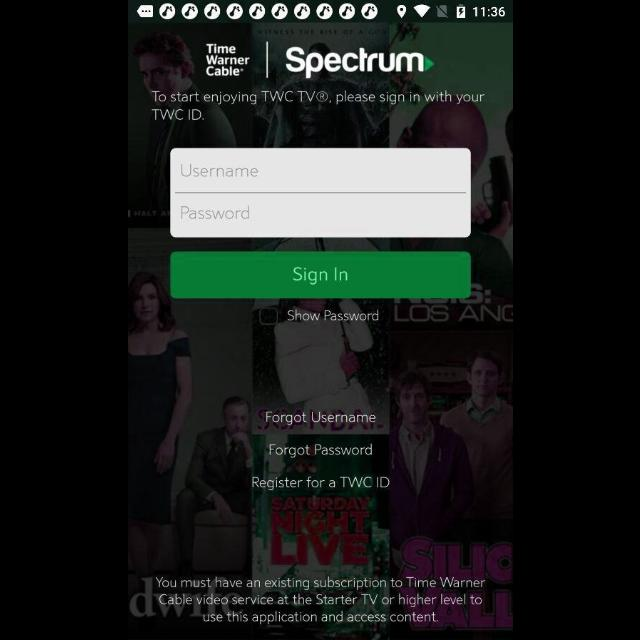backgroundimage: (128, 22, 512, 640)
checkbox: (258, 307, 278, 325)
image: (286, 46, 434, 80)
input: (170, 148, 470, 194), (170, 192, 470, 238)
text: (155, 577, 485, 625), (150, 91, 484, 123), (251, 476, 389, 490), (265, 410, 375, 426), (205, 44, 249, 78), (268, 444, 372, 458), (286, 310, 378, 322), (181, 165, 257, 178), (182, 207, 248, 220)
textbutton: (170, 252, 470, 298)
uppertaskbar: (128, 1, 512, 23)
